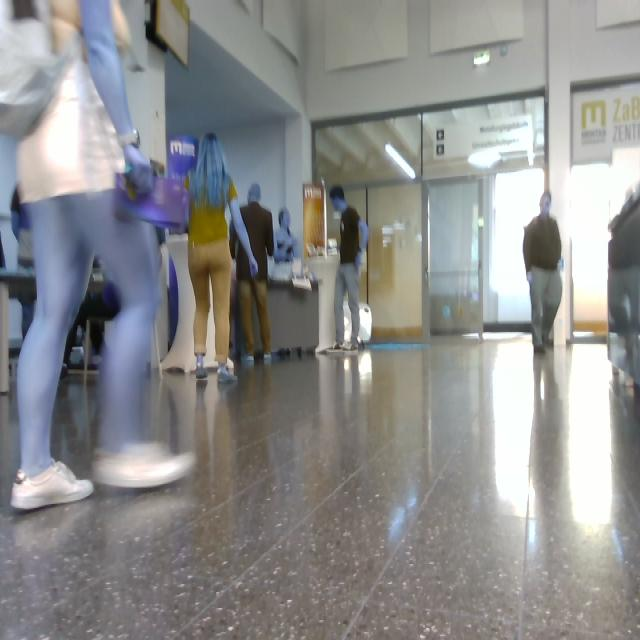desk: (270, 281, 319, 350)
door: (314, 94, 545, 338)
light bulb: (387, 144, 415, 180), (334, 210, 342, 220)
person: (1, 1, 194, 509), (187, 134, 258, 382), (231, 185, 274, 361), (523, 193, 562, 353), (331, 186, 369, 350), (11, 189, 36, 340), (270, 208, 299, 280)
pillar: (546, 1, 577, 346)
staircase: (608, 184, 640, 394)
table: (162, 236, 196, 372), (308, 256, 338, 350), (208, 308, 216, 366)
tiled floor: (1, 338, 640, 640), (54, 377, 100, 477)
